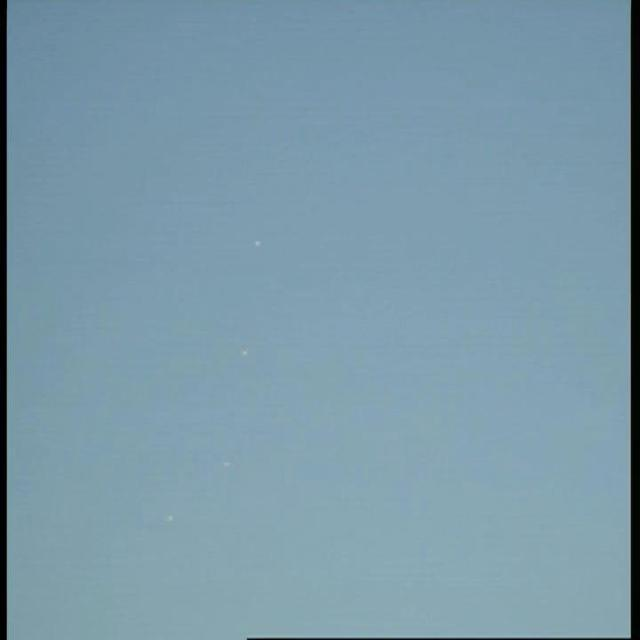drone: (247, 236, 268, 251), (221, 454, 235, 469), (163, 512, 176, 527), (239, 347, 252, 358)
